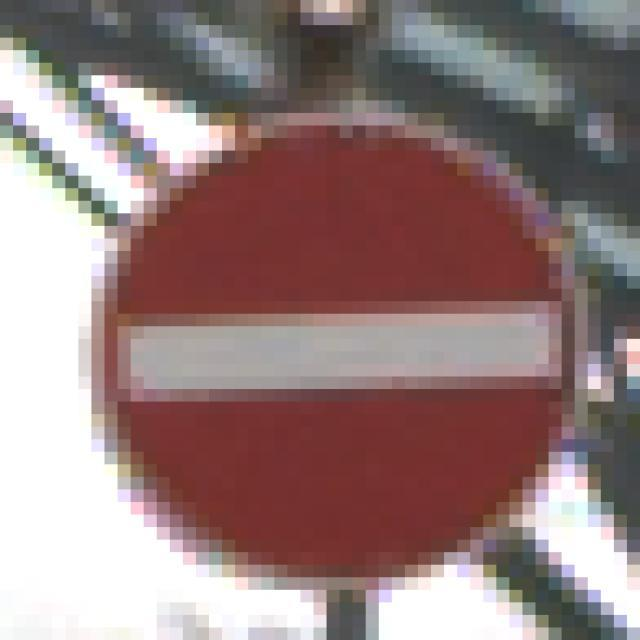no entry: (79, 110, 571, 581)
